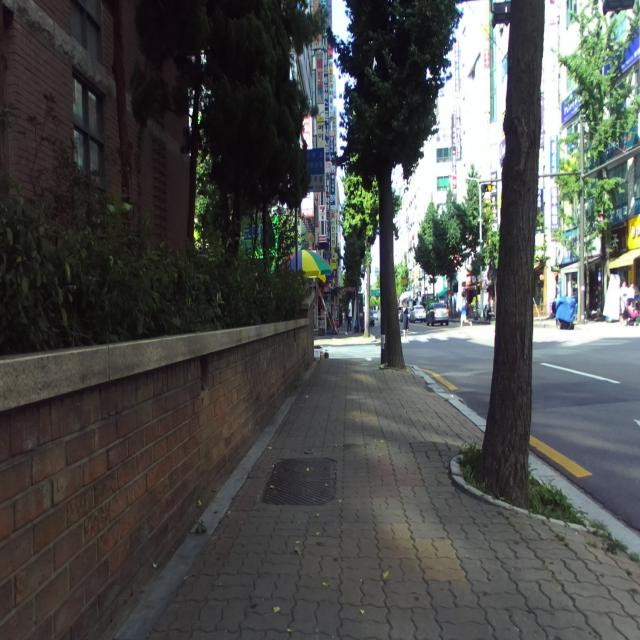횡단보도: (319, 344, 381, 361)
